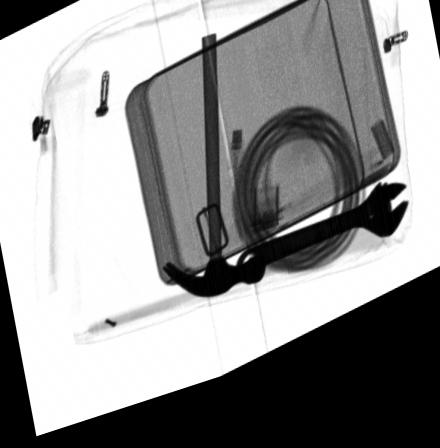Hammer: (158, 46, 263, 310)
Wrench: (235, 207, 407, 292)
